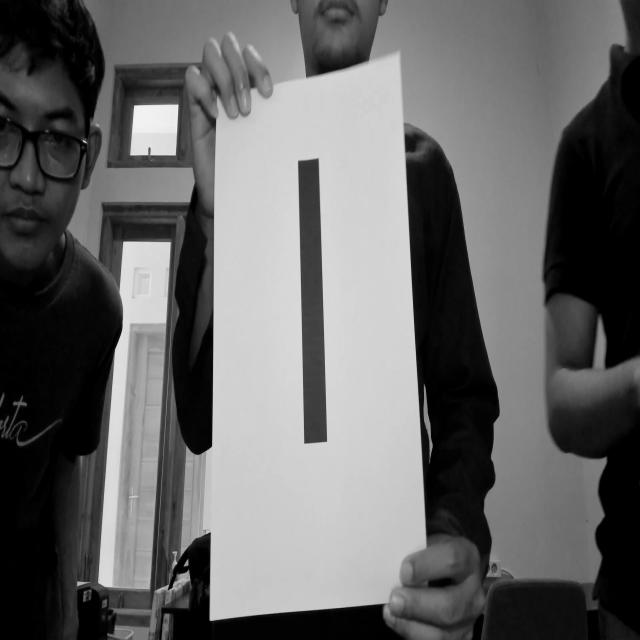i: (291, 139, 340, 464)
